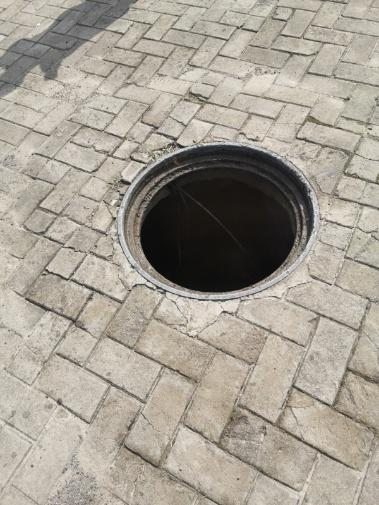wellcover: (110, 143, 323, 297)
